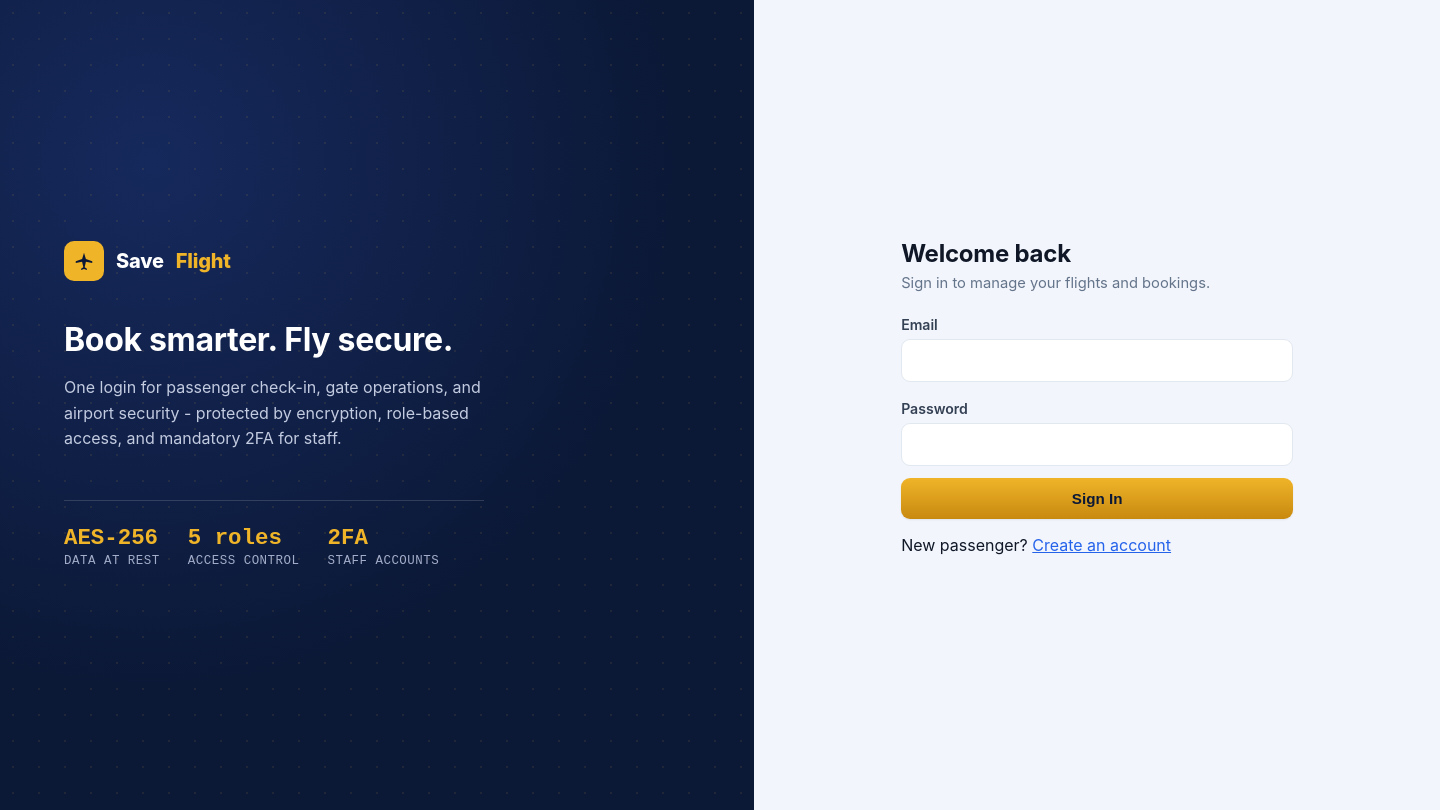
Scenario: Login Component › shows generic error message on invalid credentials
Step 1. Type "pax@example.com" into the field labelled "Email" → (1097, 360), box [901,339,1293,382]
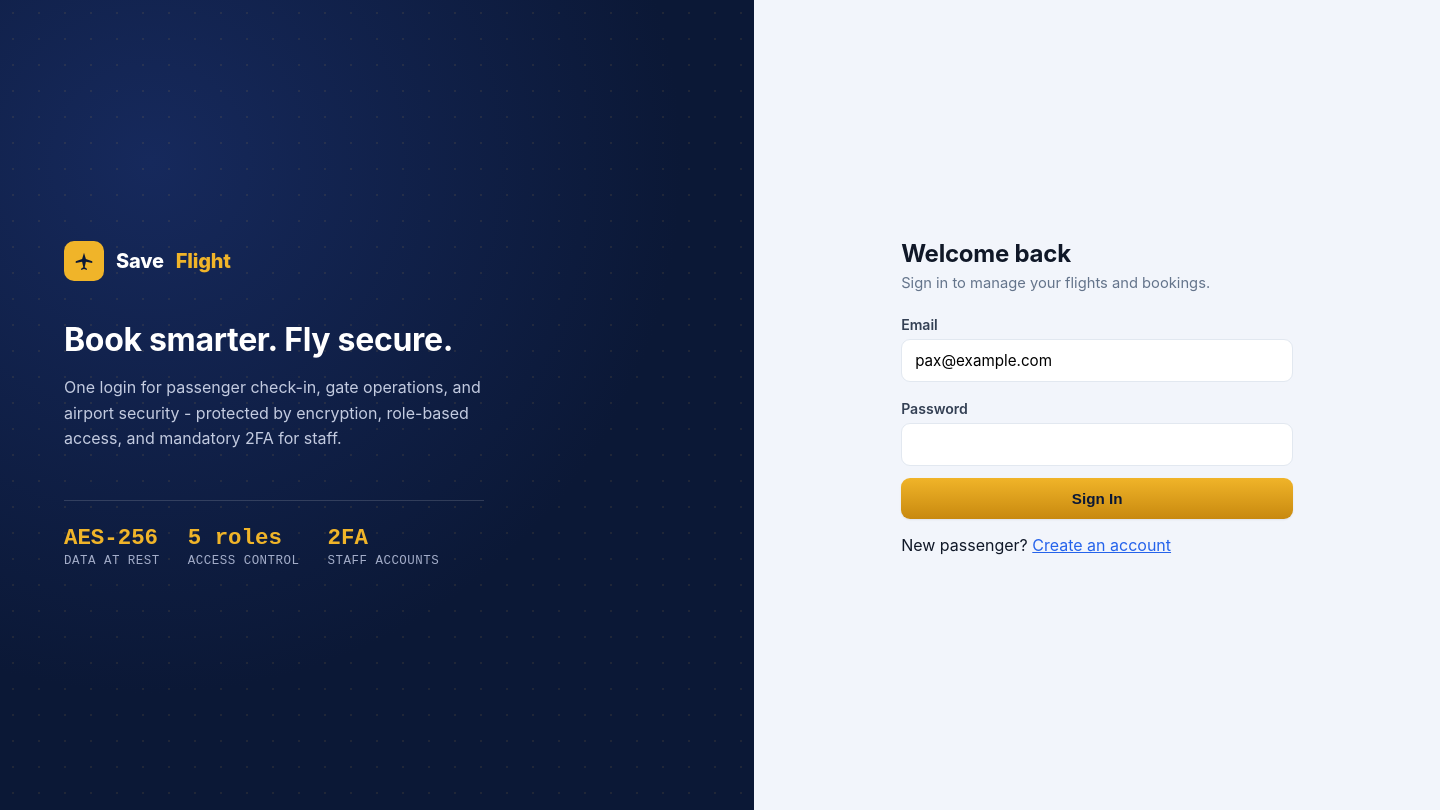
Step 2. Type "WrongPass1!" into the password field labelled "Password" → (1097, 444), box [901,423,1293,466]
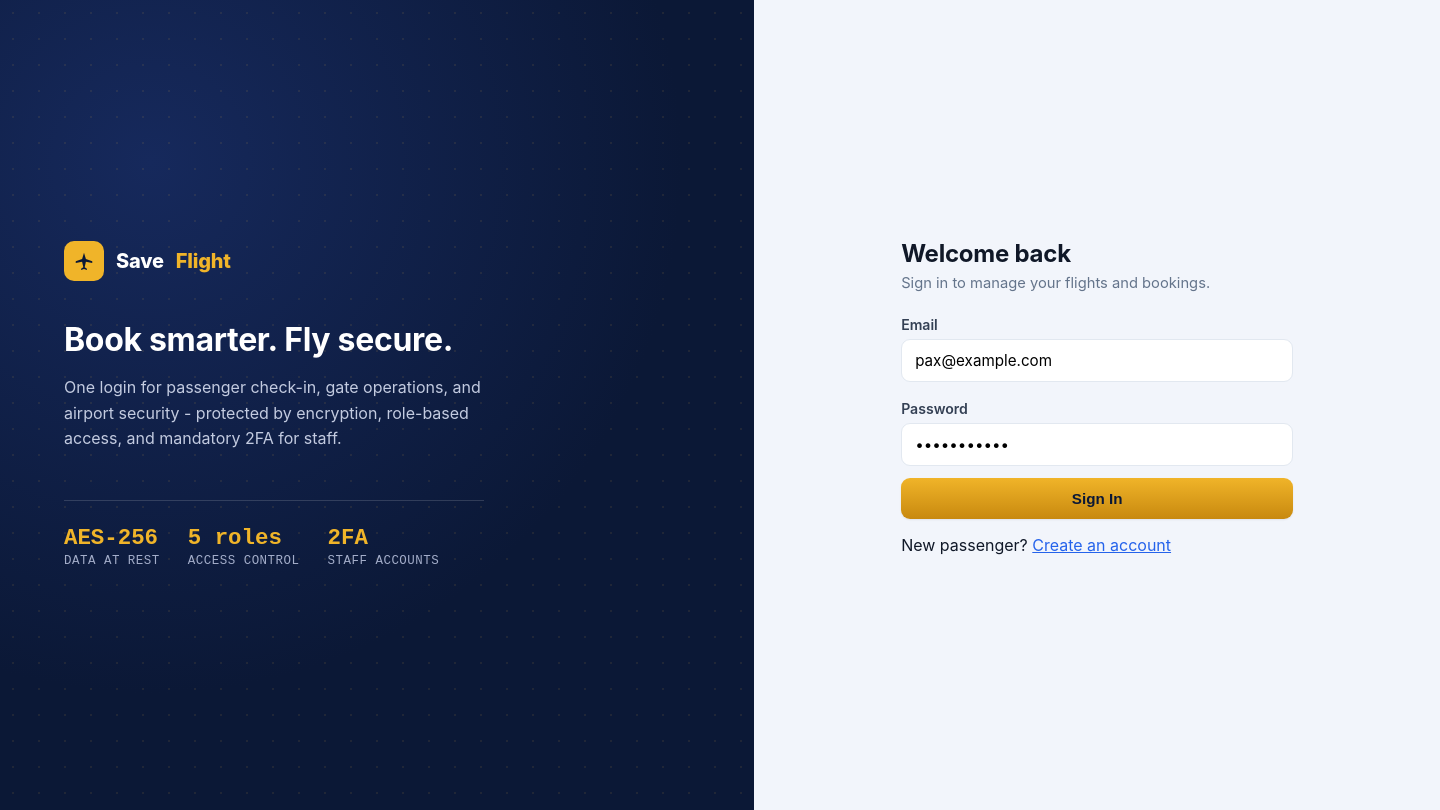
Step 3. Click the button "Sign In" → (1097, 498), box [901,478,1293,519]
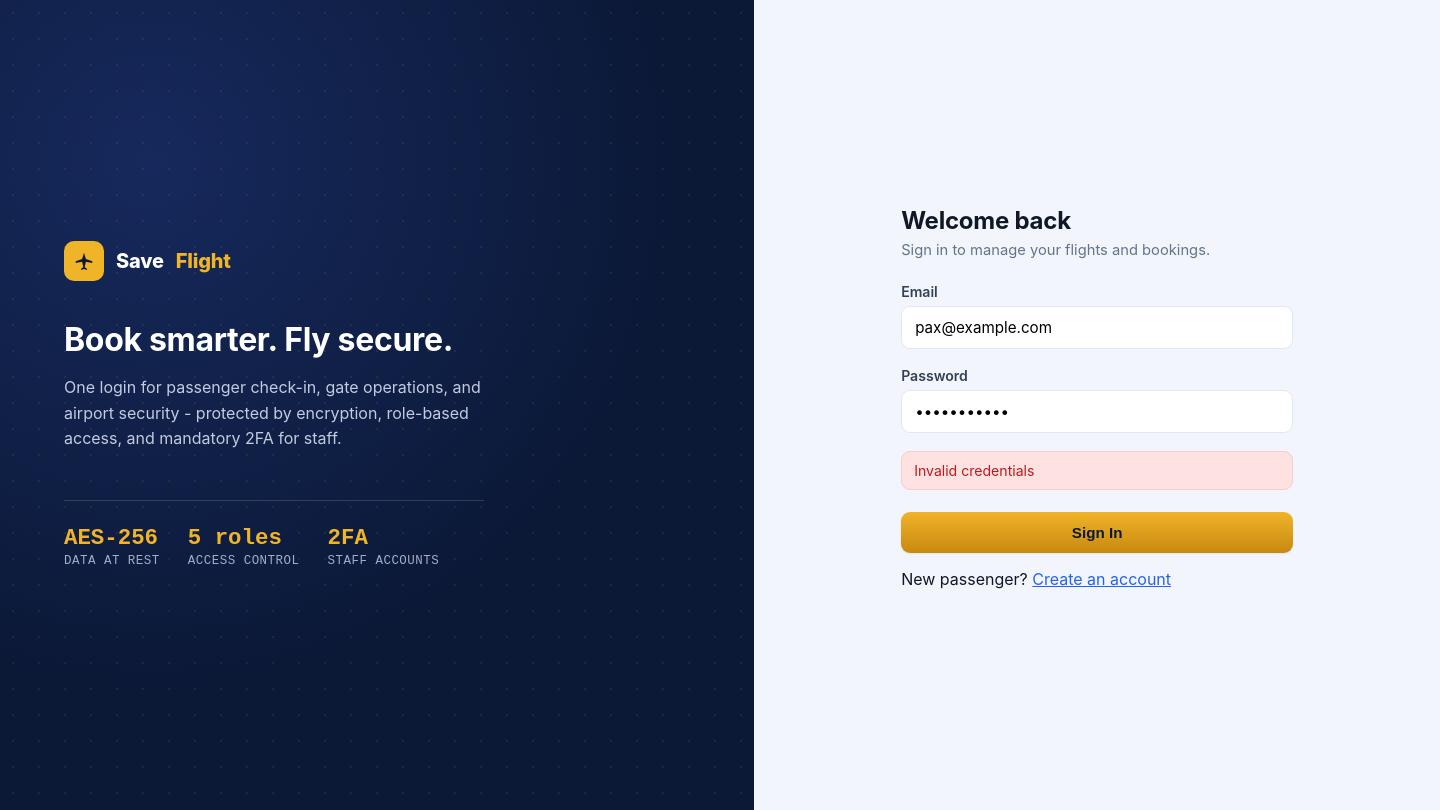
Expected: the text "Invalid credentials" is shown, [901,450,1293,490]
